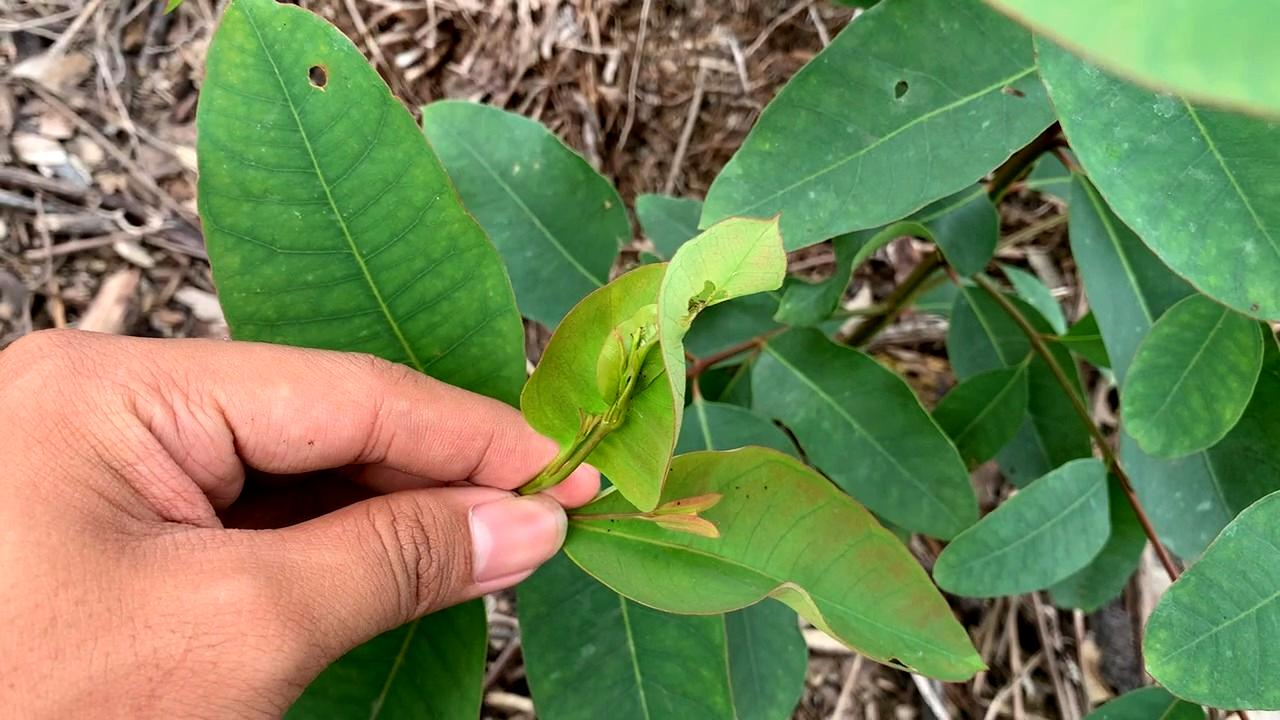Leaf Roller - Leaf: (529, 182, 751, 525)
